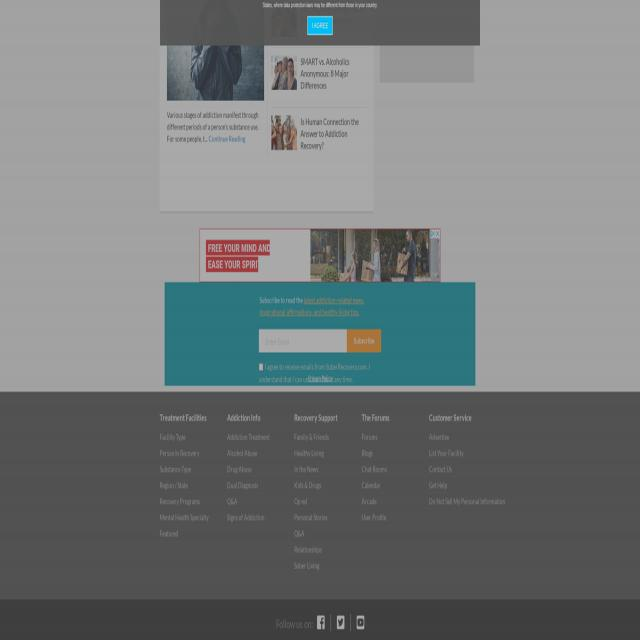button: (167, 0, 264, 101), (271, 3, 297, 37), (271, 56, 297, 90), (271, 116, 297, 150), (308, 16, 332, 35)
field: (259, 329, 347, 352), (347, 329, 381, 352), (259, 364, 263, 372)
